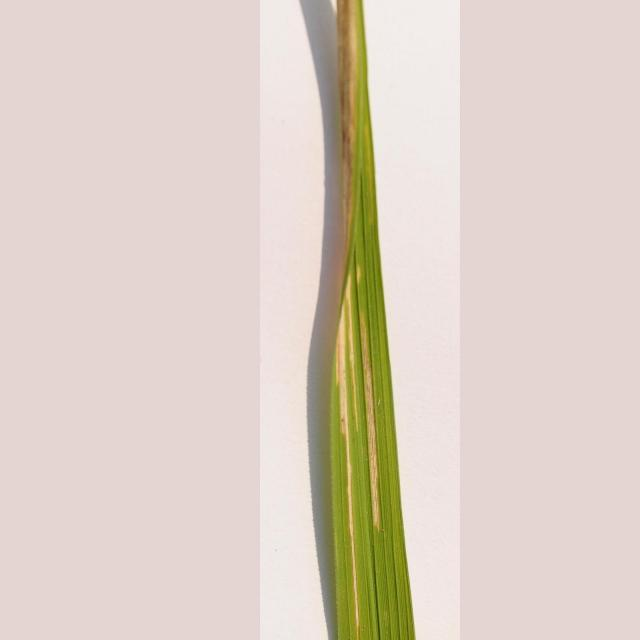leaf blight: (329, 1, 389, 628)
